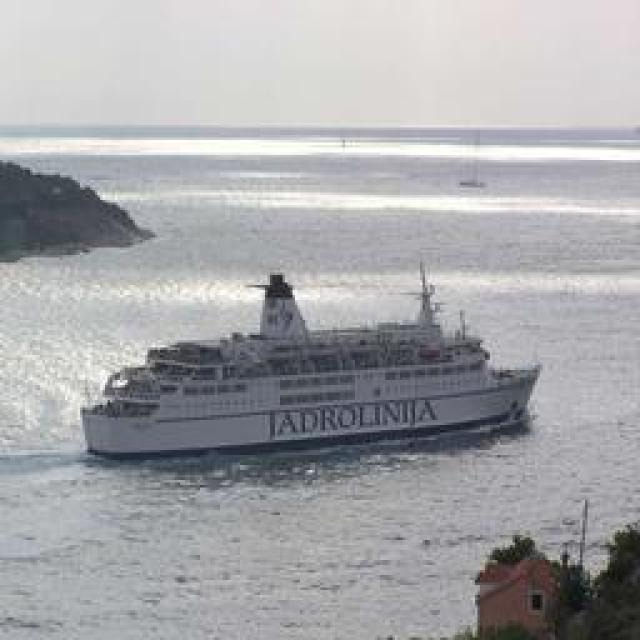Ship: (83, 268, 521, 463)
